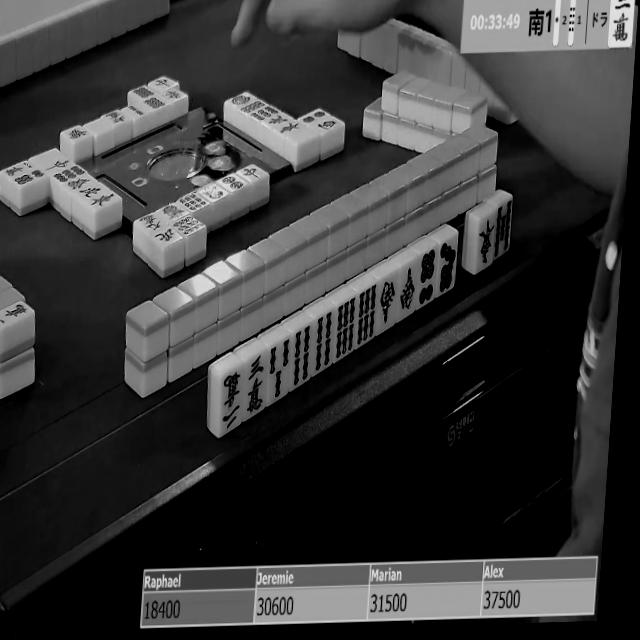east: (465, 209, 497, 272)
m2: (208, 367, 248, 434), (609, 0, 635, 46)
m3: (241, 353, 271, 419)
s3: (266, 339, 294, 405)
s4: (288, 325, 317, 391), (311, 310, 340, 374)
s5: (495, 197, 514, 261)
s6: (354, 284, 382, 349), (331, 298, 359, 362)
south: (374, 275, 399, 332), (395, 264, 420, 321)
t6: (415, 246, 441, 307)
t7: (437, 234, 458, 295)
